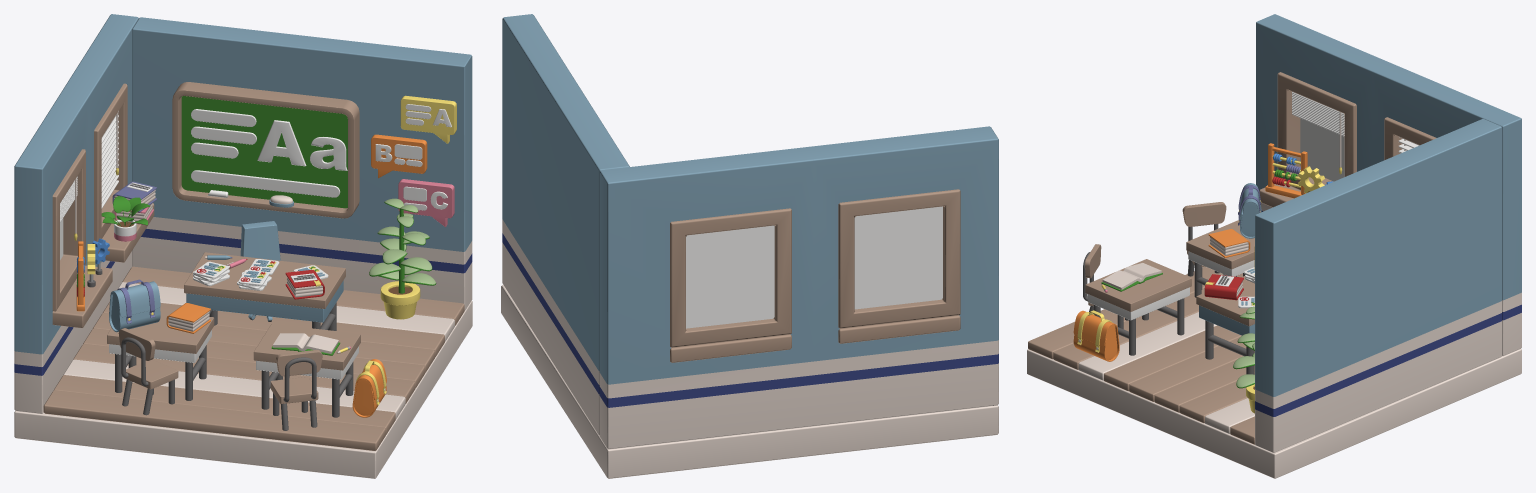
File: Classroom_2.glb
3 renders of one model, left to right at view 1: azimuth 30°, elevation 25°; view 2: azimuth 150°, elevation 25°; view 3: azimuth 270°, elevation 25°, orthographic. The views are drawn at different scales.
Parts seen in each view (by area): view 1: Classroom_Wall_2, Classroom_Floor_2, Classroom_Blackboard_1, Classroom_Wall_1, Classroom_Floor_1, Classroom_Table_2, Classroom_Window_1, Classroom_Window_2, Classroom_Plant_1, Classroom_Table_3, Classroom_Table_1, Classroom_Chair_3 (+15 smaller); view 2: Classroom_Wall_1, Classroom_Wall_2, Classroom_Window_1, Classroom_Window_2, Classroom_Floor_1; view 3: Classroom_Wall_2, Classroom_Wall_1, Classroom_Floor_2, Classroom_Floor_1, Classroom_Window_1, Classroom_Table_3, Classroom_Table_2, Classroom_Table_1, Classroom_Briefcase_2, Classroom_Abacus_1, Classroom_Window_2, Classroom_Chair_2 (+6 smaller).
Boxes of the visible parts, x1,y1,x2,y2 form: Classroom_Wall_2: [132, 17, 472, 310]; Classroom_Floor_2: [43, 266, 464, 450]; Classroom_Blackboard_1: [172, 82, 359, 218]; Classroom_Wall_1: [14, 14, 138, 413]; Classroom_Floor_1: [14, 301, 472, 478]; Classroom_Table_2: [184, 252, 345, 330]; Classroom_Window_1: [52, 149, 112, 328]; Classroom_Window_2: [94, 83, 154, 262]; Classroom_Plant_1: [369, 198, 436, 319]; Classroom_Table_3: [253, 324, 360, 417]; Classroom_Table_1: [107, 311, 214, 400]; Classroom_Chair_3: [270, 349, 322, 430]; Classroom_Wall_1: [599, 126, 998, 449]; Classroom_Wall_2: [502, 14, 629, 435]; Classroom_Window_1: [838, 189, 960, 343]; Classroom_Window_2: [670, 208, 791, 362]; Classroom_Floor_1: [501, 284, 998, 478]; Classroom_Wall_2: [1255, 119, 1501, 452]; Classroom_Wall_1: [1256, 14, 1521, 355]; Classroom_Floor_2: [1028, 267, 1254, 444]; Classroom_Floor_1: [1027, 349, 1521, 478]; Classroom_Window_1: [1259, 72, 1356, 207]; Classroom_Table_3: [1085, 259, 1191, 355]; Classroom_Table_2: [1196, 276, 1254, 374]; Classroom_Table_1: [1186, 220, 1254, 297]; Classroom_Briefcase_2: [1073, 310, 1119, 361]; Classroom_Abacus_1: [1265, 143, 1307, 198]; Classroom_Window_2: [1384, 117, 1436, 160]; Classroom_Chair_2: [1182, 202, 1226, 289].
Size of the model in its own units: 7.04 by 4.02 by 7.03.
1 material, 1 textured.
